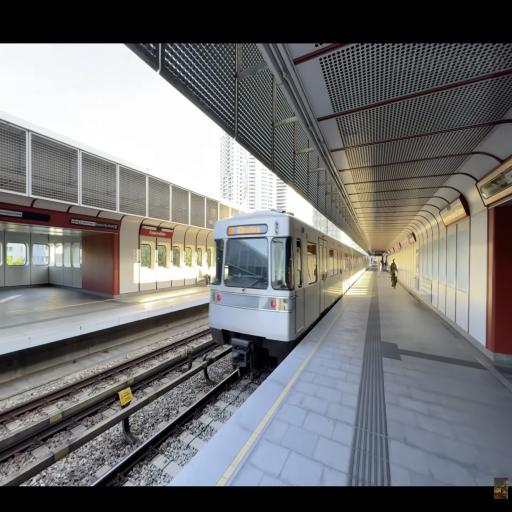Silberpfeil: (208, 209, 372, 345)
